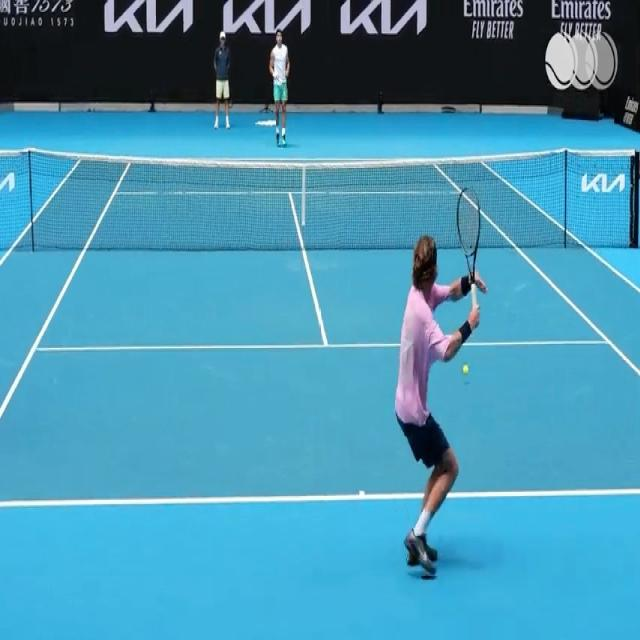forehand-ready: (394, 186, 486, 572)
